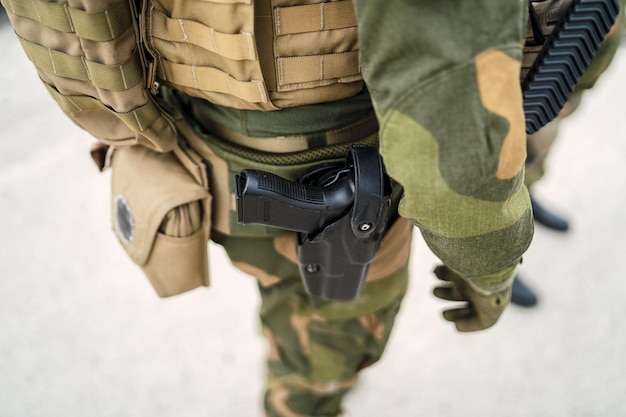gun: (237, 162, 392, 306)
